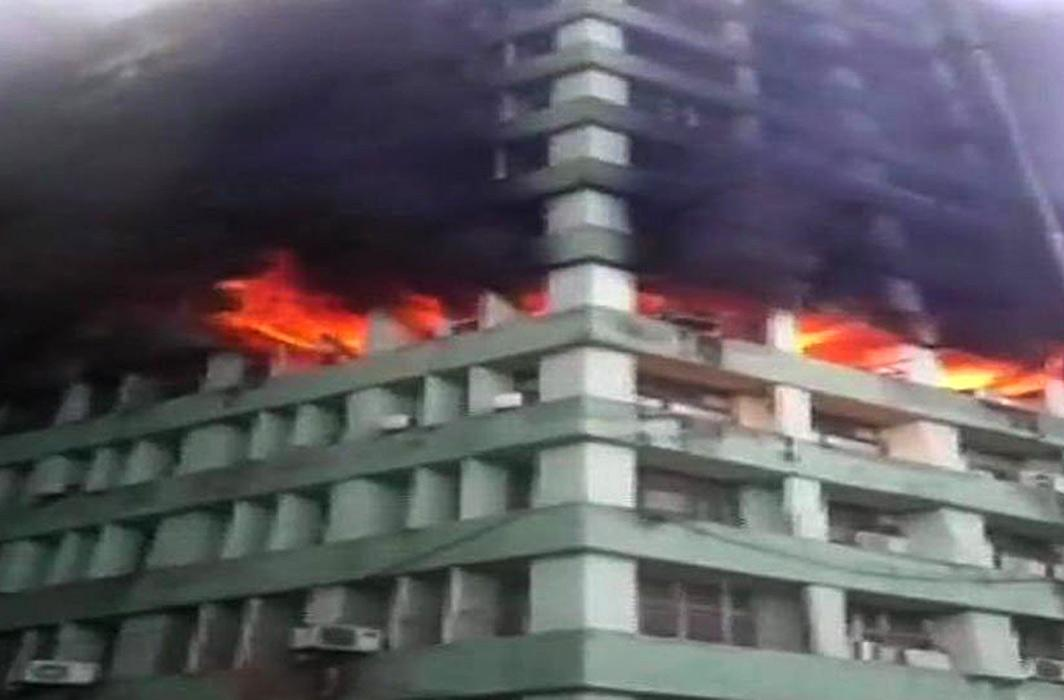Fire: (195, 237, 1064, 412)
